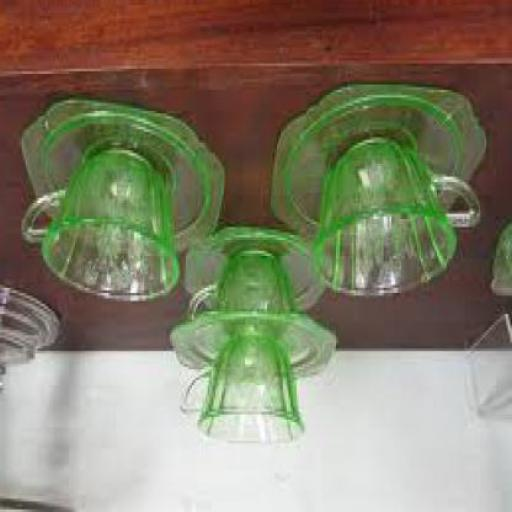glass: (273, 88, 488, 238), (21, 98, 226, 255), (318, 138, 484, 298), (24, 148, 182, 304), (184, 333, 305, 449), (186, 224, 330, 314), (174, 314, 340, 383), (192, 248, 297, 319), (2, 290, 61, 393), (466, 318, 511, 420), (494, 226, 510, 300)
